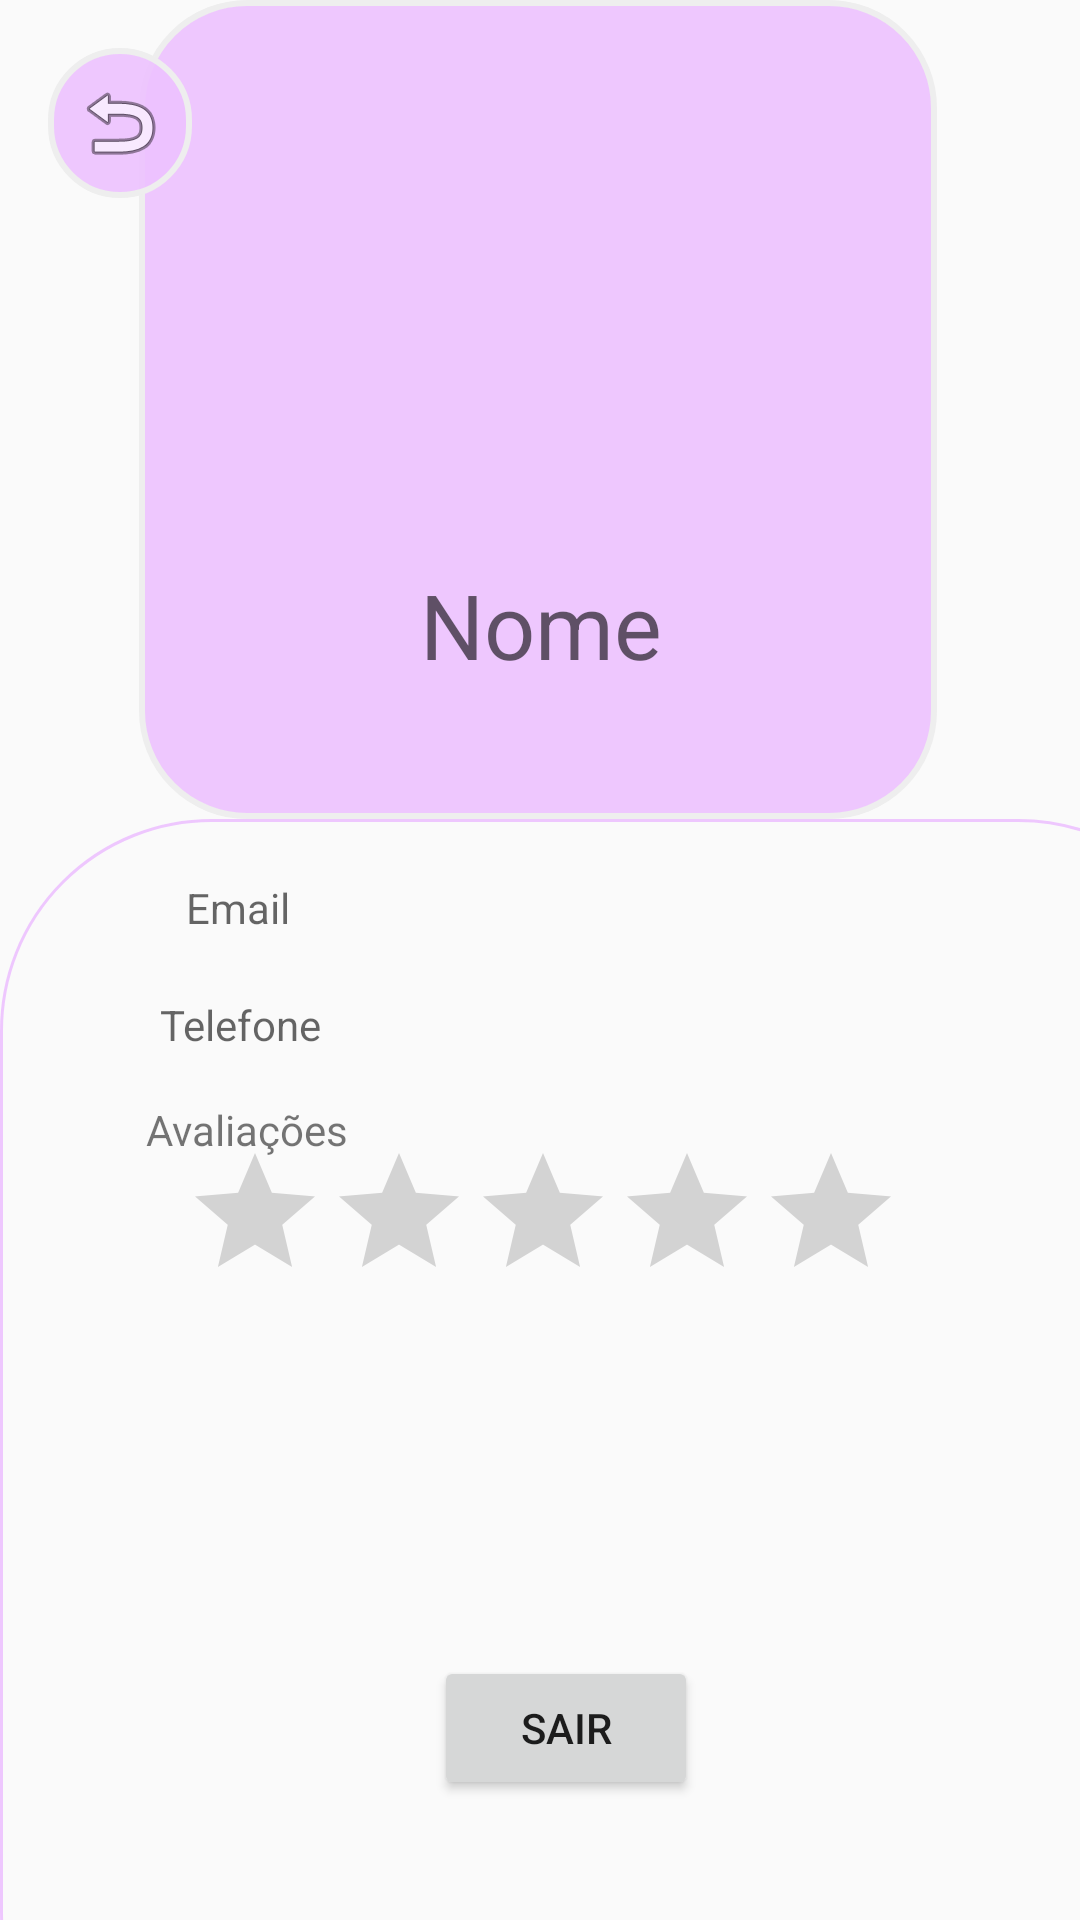

Icon click points for this 1080w x 1920h phone screenshot, format (x=x, y=y):
revert: (x=120, y=123)
